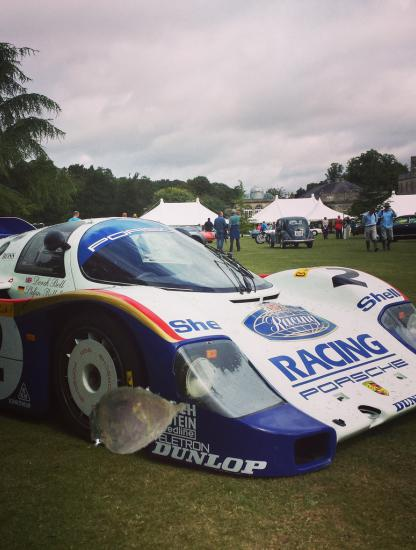Beetroot: (87, 365, 195, 473)
